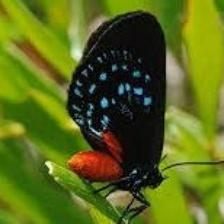butterfly: (68, 12, 166, 202)
